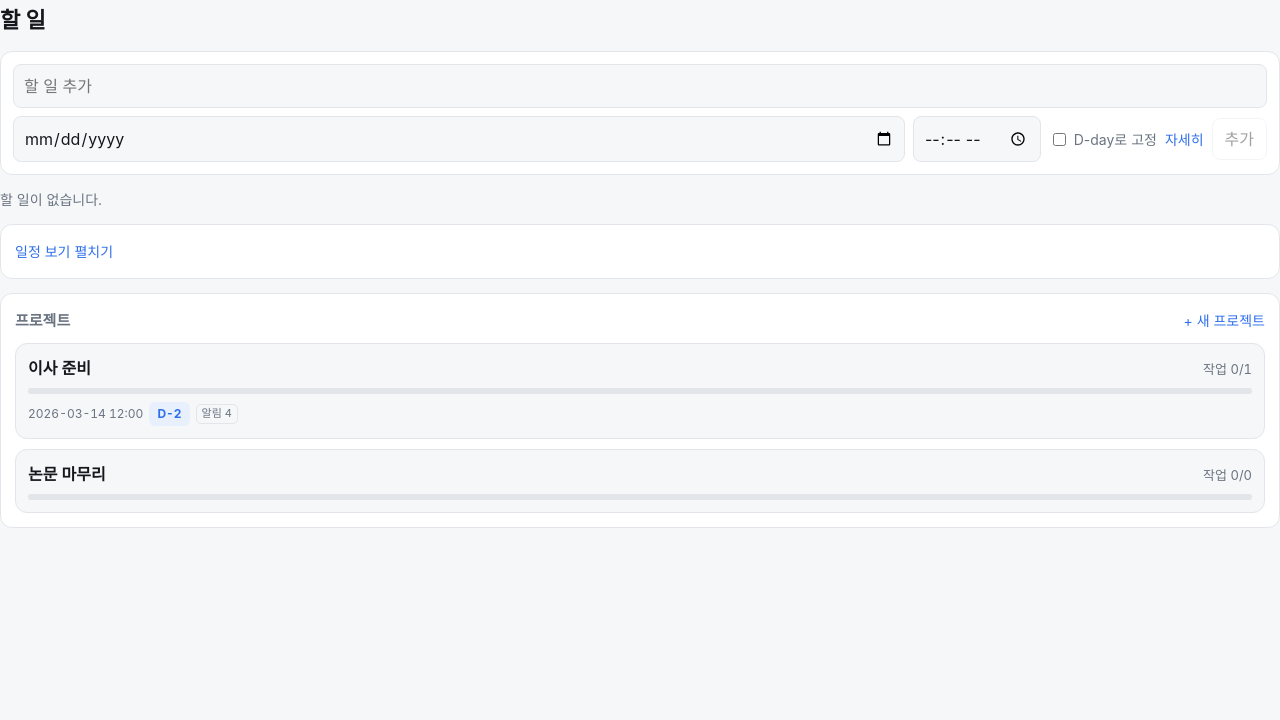
Test: 프로젝트 상세 주소 › 일정에서 연 프로젝트도 주소에 남는다
The image size is (1280, 720).
Click the button "일정 보기 펼치기" at (64, 252), box [15, 239, 113, 264]
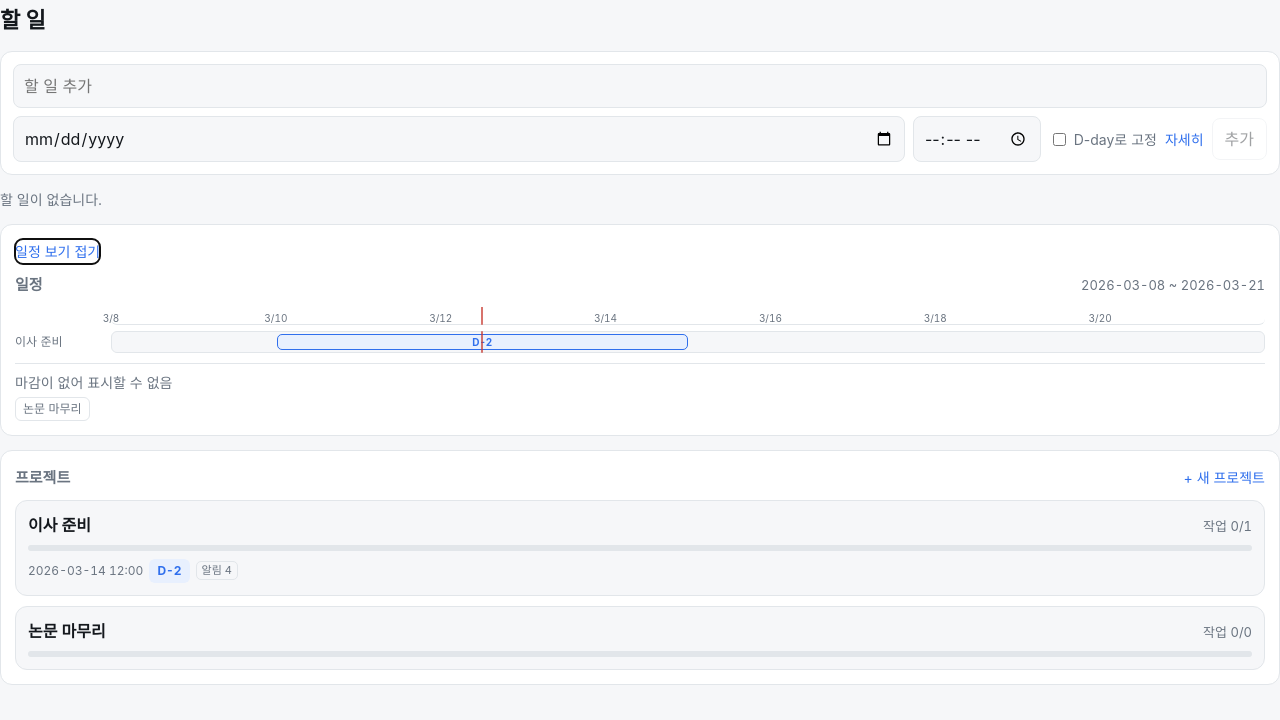
Click the button named "이사 준비 2026-03-10부터" at (482, 342), box [277, 334, 688, 350]
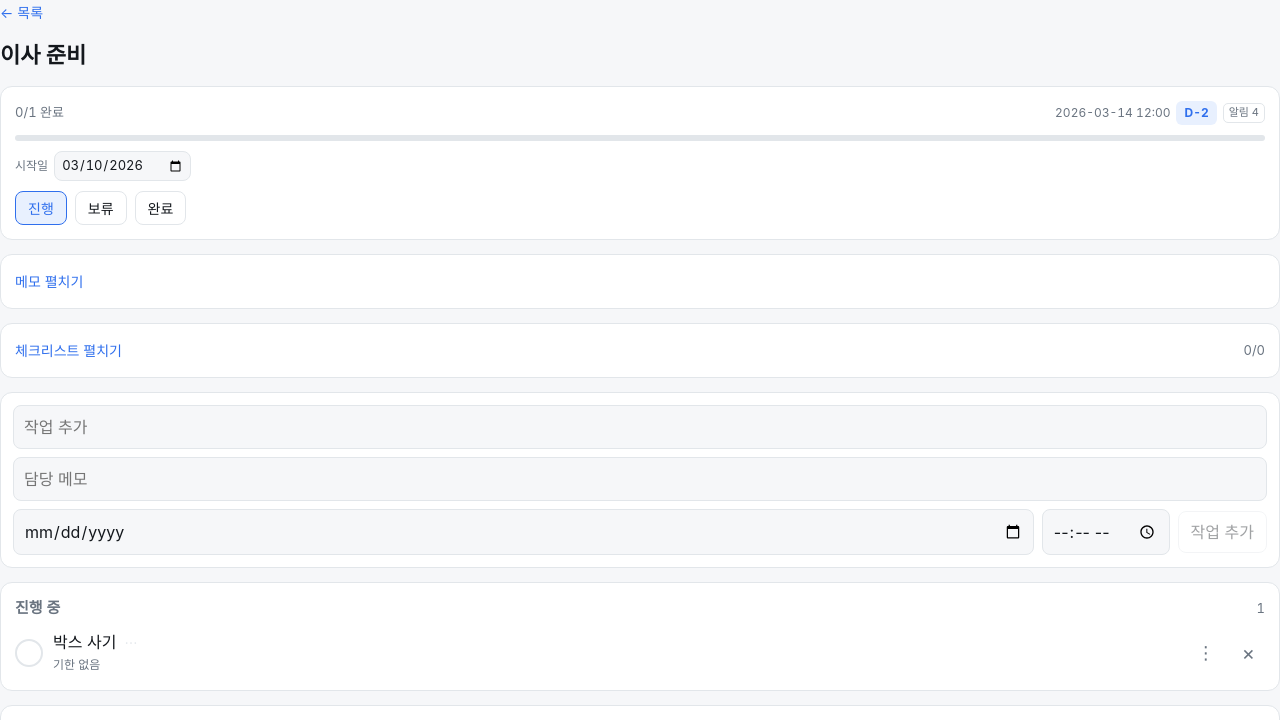
Now the field named "작업 제목" is shown, box [13, 405, 1267, 449]
